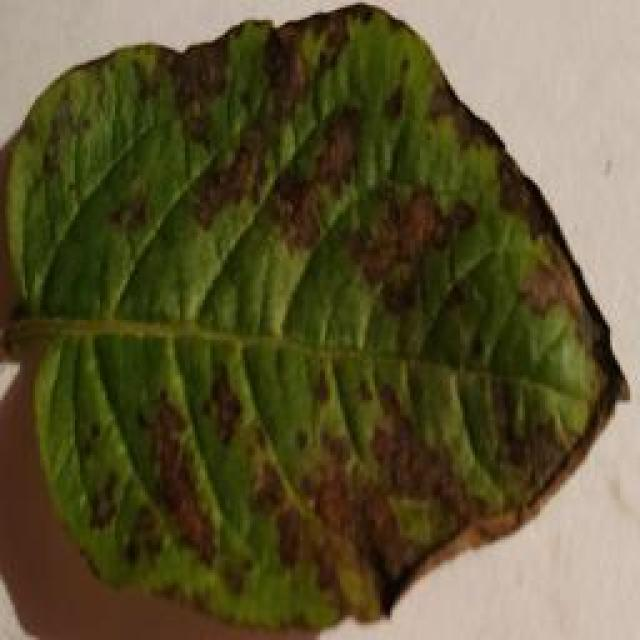Potato_Late_Blight: (6, 5, 616, 628)
